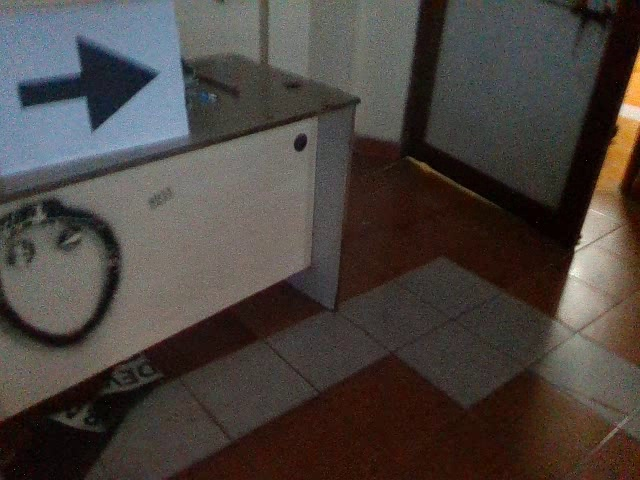Right: (8, 27, 166, 133)
